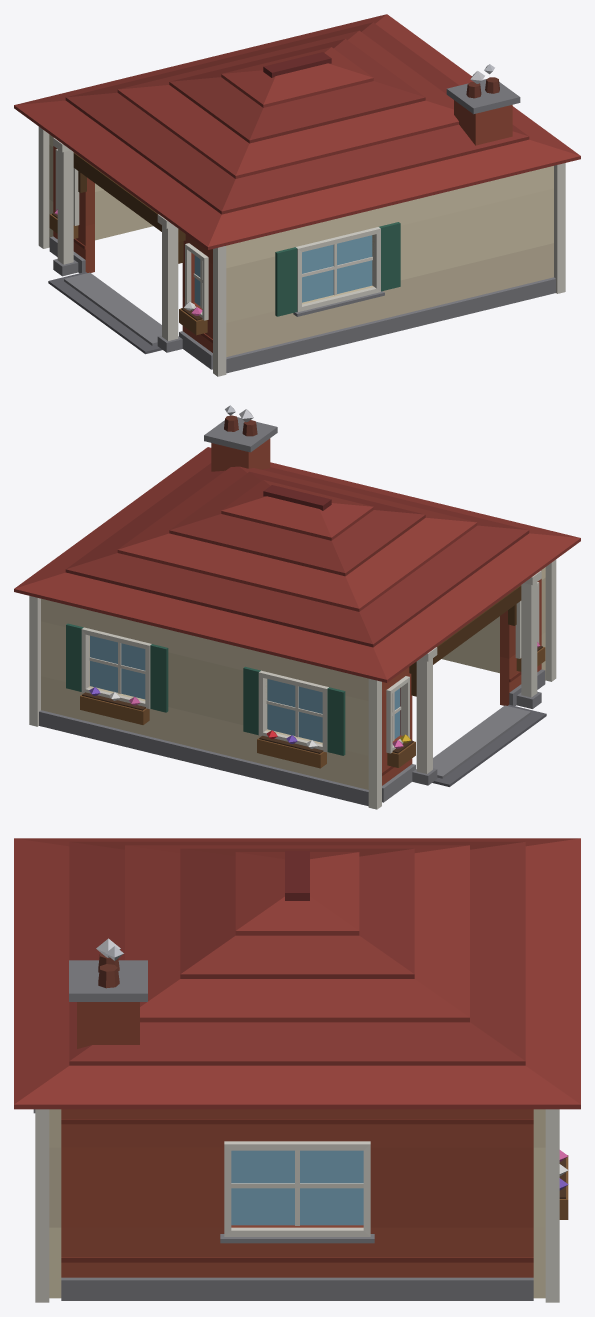
The model's file is Decor_LittleHouse_LittleHouse.fbx.
The picture shows the model from 3 angles, top to bottom: view 1: azimuth 30°, elevation 25°; view 2: azimuth 150°, elevation 25°; view 3: azimuth 270°, elevation 25°; orthographic projection. The views are drawn at different scales.
Parts seen in each view (by area): view 1: LittleHouse_Roof, LittleHouse_Body, LittleHouse_Trim; view 2: LittleHouse_Roof, LittleHouse_Body, LittleHouse_Trim; view 3: LittleHouse_Roof, LittleHouse_Body, LittleHouse_Trim.
Boxes of the visible parts, x1,y1,x2,y2 form: LittleHouse_Roof: (14, 14, 580, 249); LittleHouse_Body: (48, 77, 555, 373); LittleHouse_Trim: (38, 64, 565, 376); LittleHouse_Roof: (14, 447, 580, 682); LittleHouse_Body: (39, 415, 546, 806); LittleHouse_Trim: (29, 405, 556, 809); LittleHouse_Roof: (14, 838, 580, 1109); LittleHouse_Body: (49, 952, 545, 1300); LittleHouse_Trim: (33, 938, 568, 1302).
Bounding box in the file's own units: 41.5 × 22.6 × 36.
